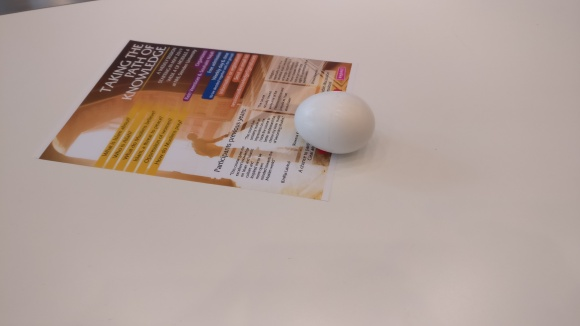egg: (293, 90, 377, 154)
